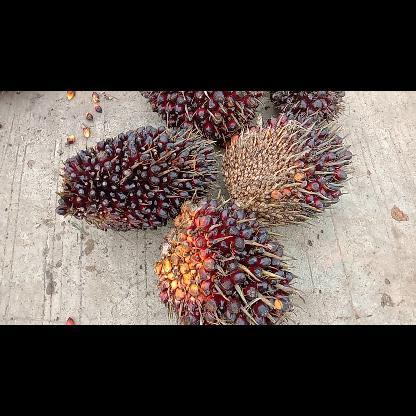TBS mentah: (155, 190, 303, 324), (54, 126, 222, 230), (222, 115, 356, 227), (139, 91, 263, 147), (270, 91, 344, 123)
